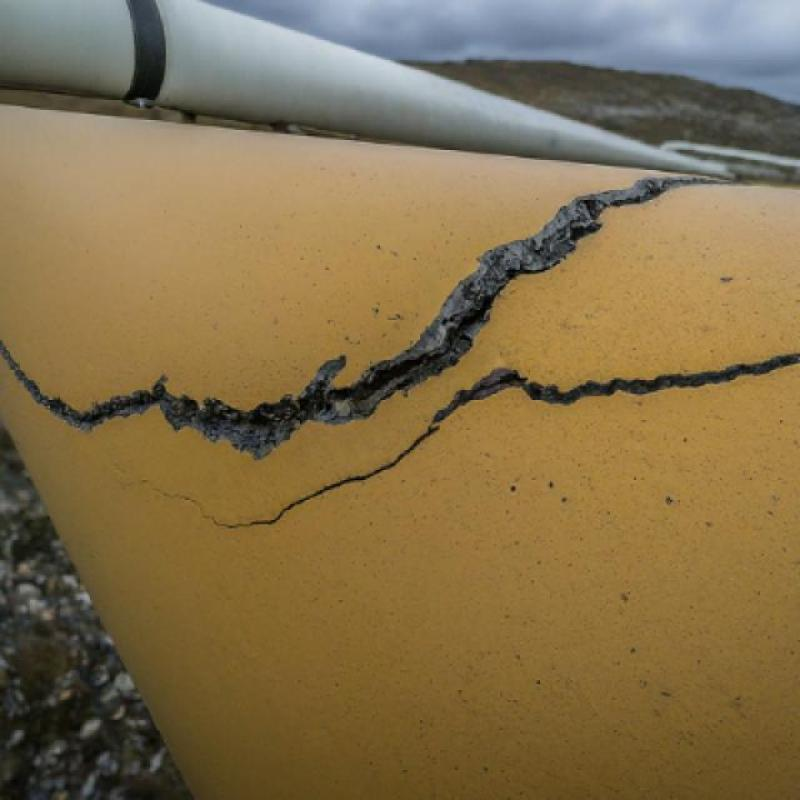Fracture: (295, 230, 575, 420)
